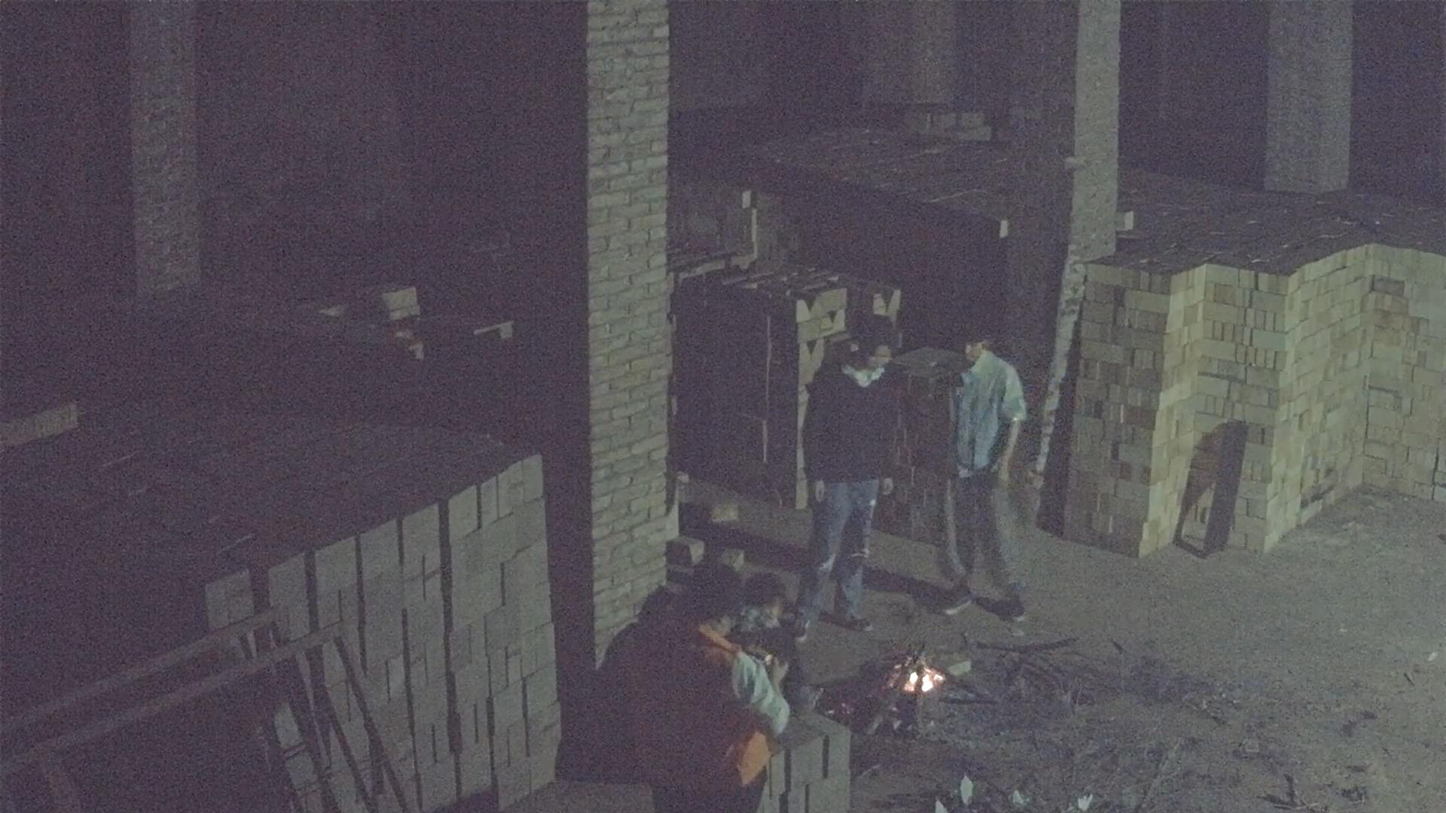fire: (887, 652, 945, 696)
